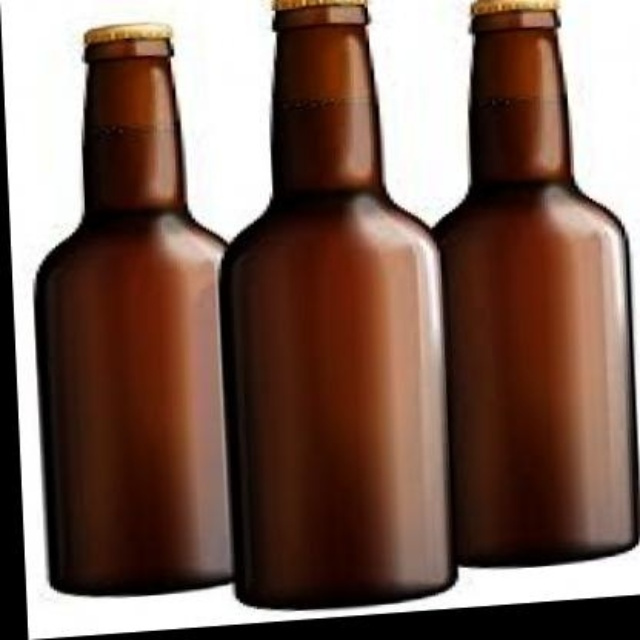trash: (222, 0, 454, 606), (435, 0, 637, 563), (35, 25, 231, 592)
